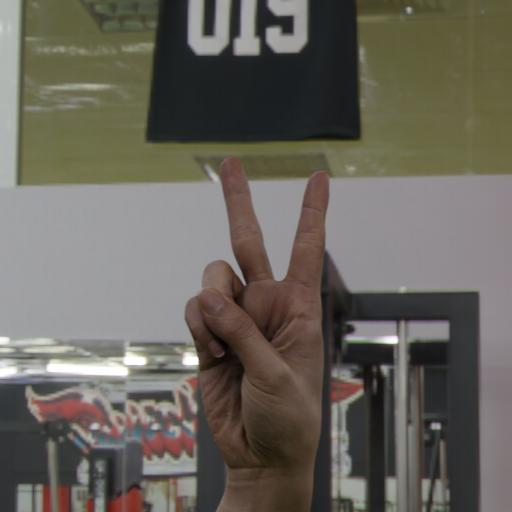V: (175, 136, 339, 506)
